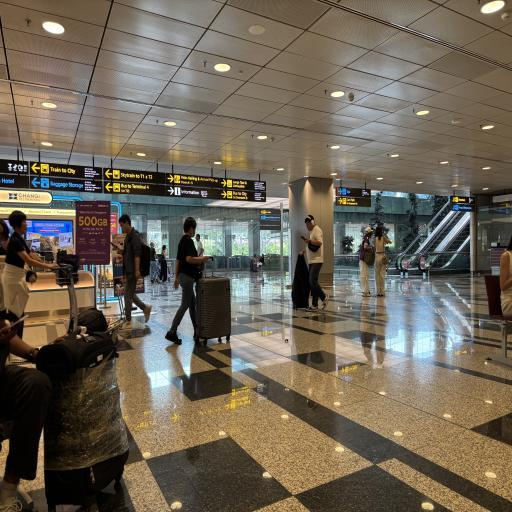person_right: (106, 206, 166, 328)
person_with_luggage_left: (287, 207, 334, 317)
person_with_luggage_right: (166, 203, 242, 358)
